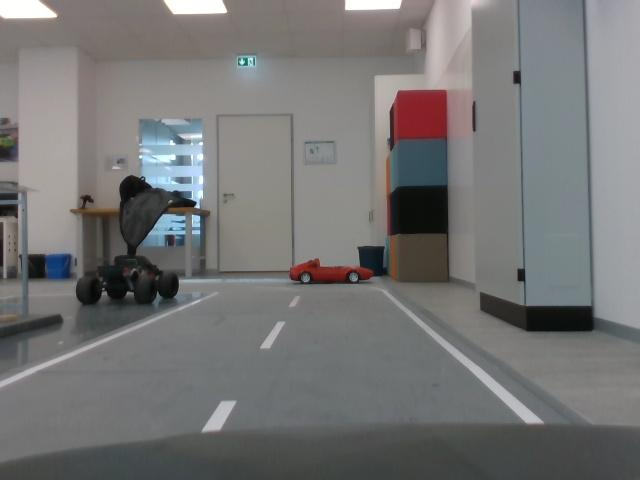car: (73, 255, 183, 310), (286, 257, 382, 290)
